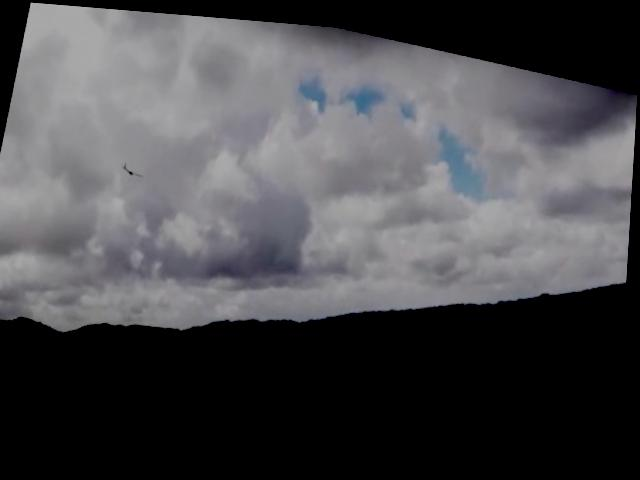iha: (119, 156, 145, 177)
